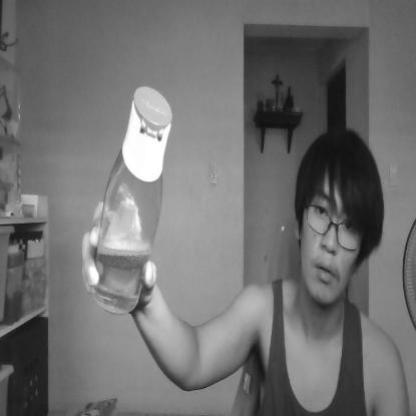Plastic Bottle: (86, 78, 171, 317)
